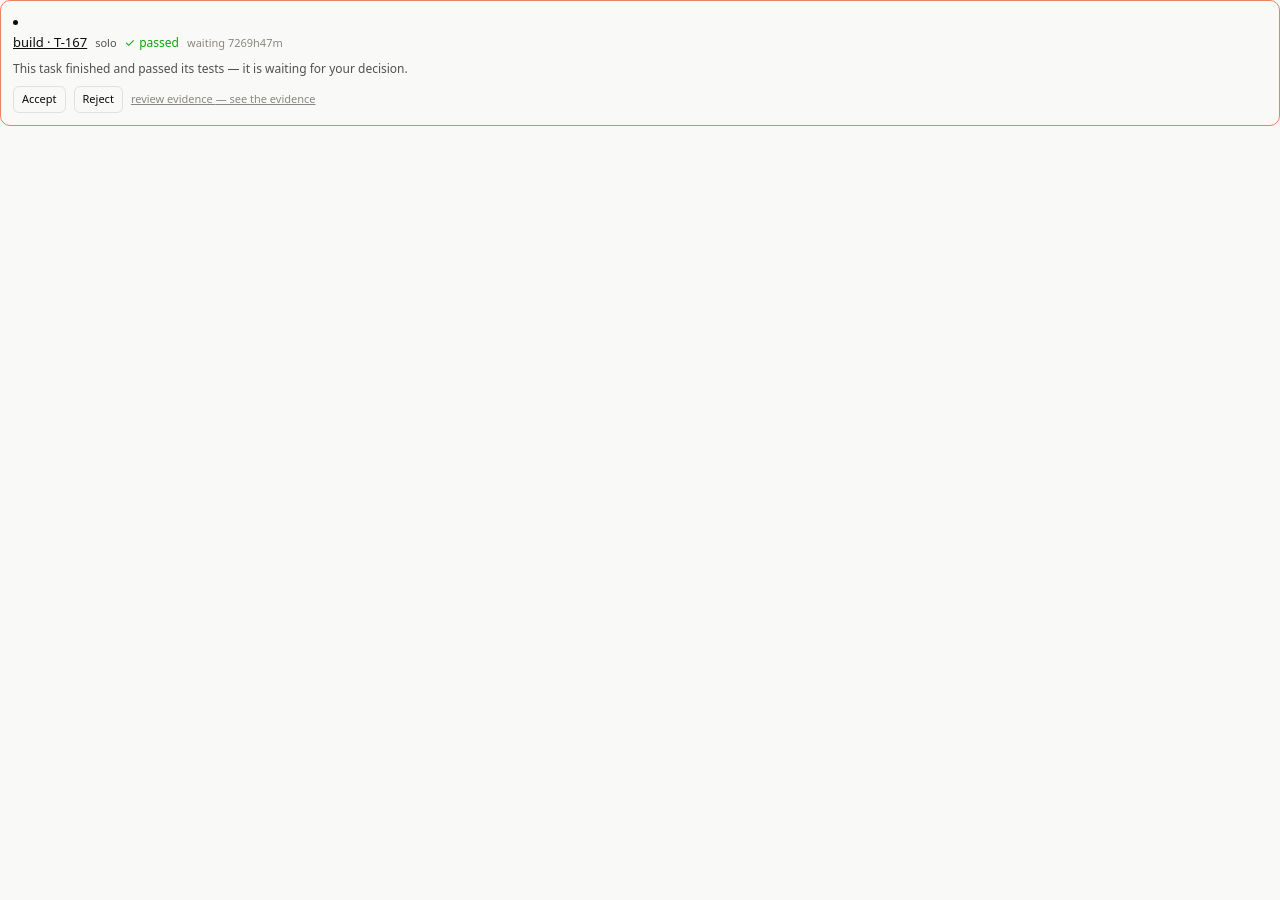
WaitingCard evidence › opens the evidence drawer from the card and keeps decisions visible
Step 1. Click the button with test id "review-evidence" → (223, 99), box [131,91,316,108]
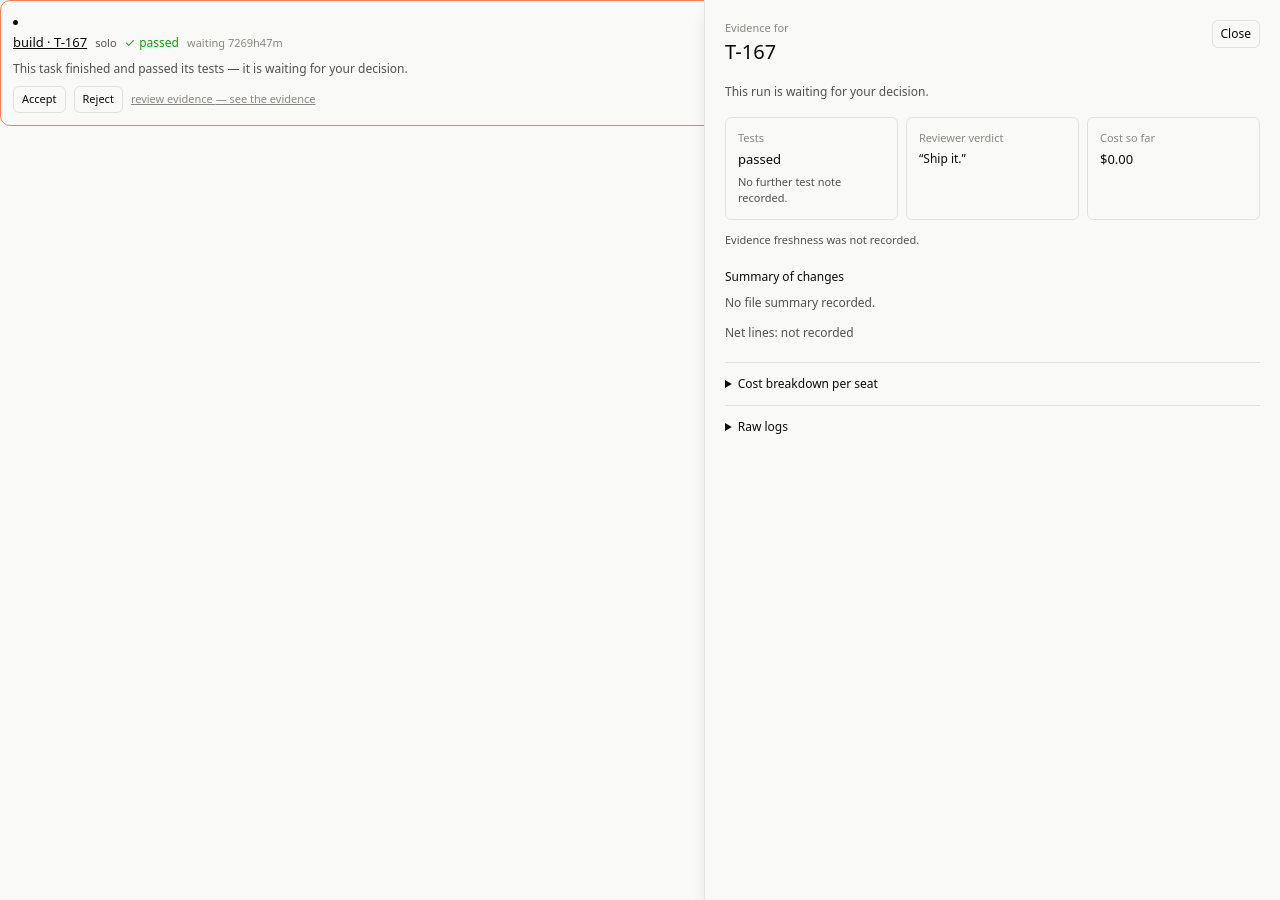
Expected: the button with test id "now-accept" is shown, [13,86,66,112]
Expected: the dialog "Evidence" is shown, [704,0,1279,899]
